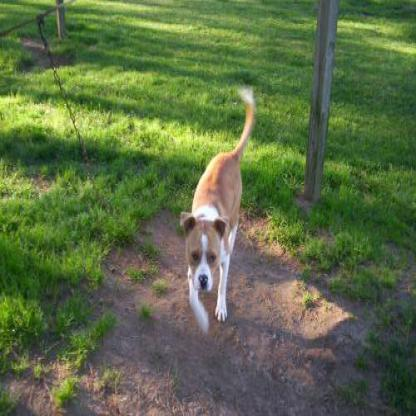dog: (175, 113, 277, 316)
